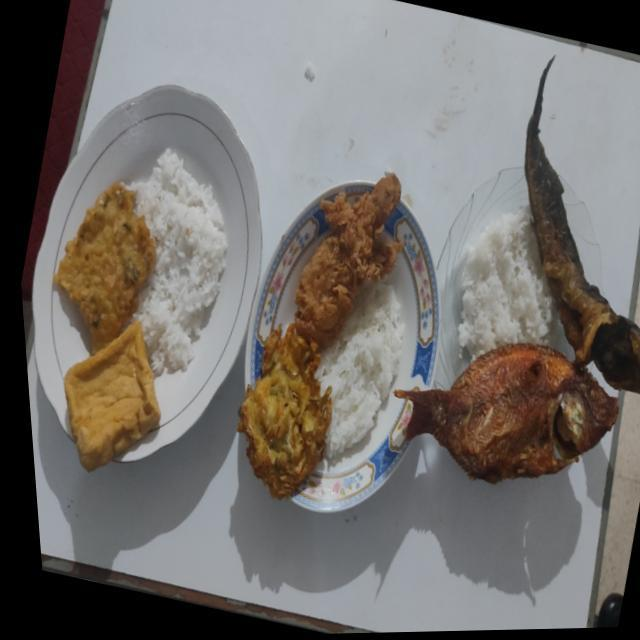ikan_mujair: (394, 343, 617, 483)
nasi_putih: (128, 151, 227, 375), (314, 280, 404, 462), (458, 208, 556, 360)
tahu_goreng: (63, 320, 160, 470)
